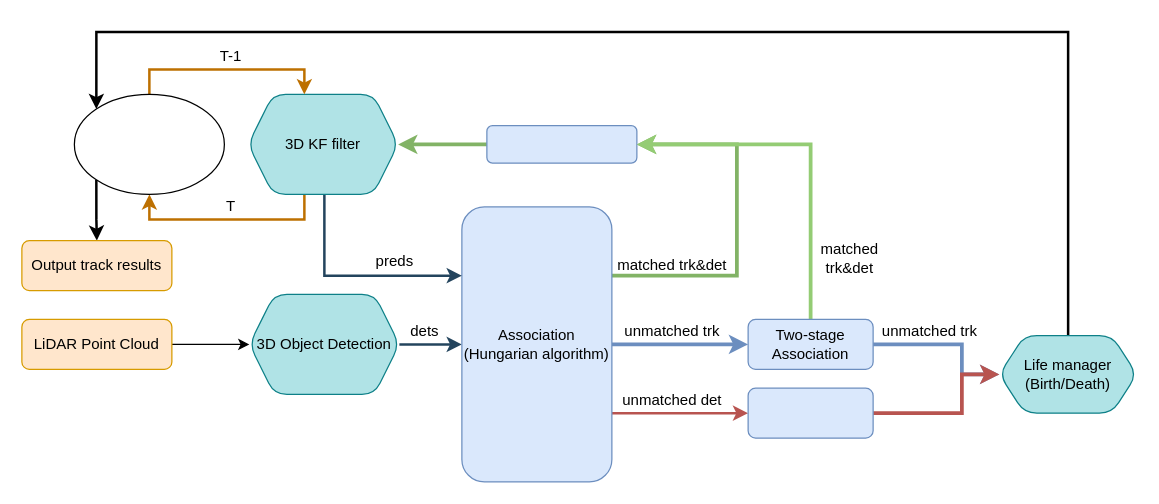
Image size: 1159x504. Some labels were removed from this diagram. Here are the shapes that lost their labels. From the top down, the centre of each, then its label:
[148,143]: Trajectories
[561,143]: Update
[810,412]: Initial tracker
